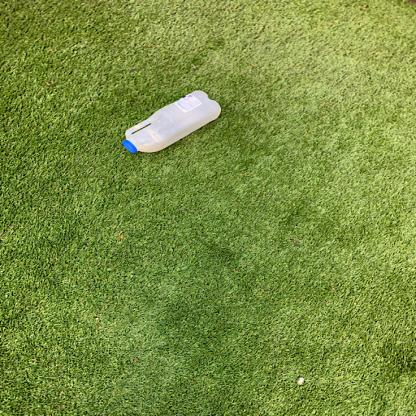trash: (121, 92, 223, 156)
